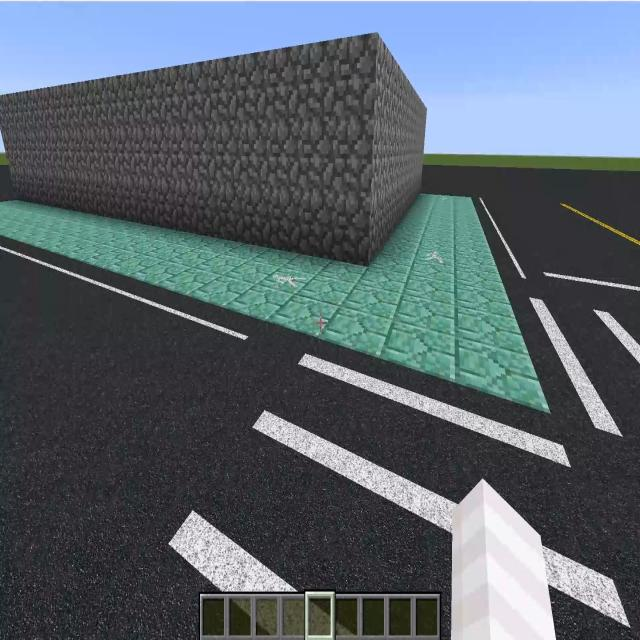crosswalk: (107, 339, 633, 639), (512, 290, 639, 459)
road: (2, 235, 302, 631), (425, 165, 640, 301), (560, 417, 636, 617)
sidewalk: (0, 189, 546, 404)
